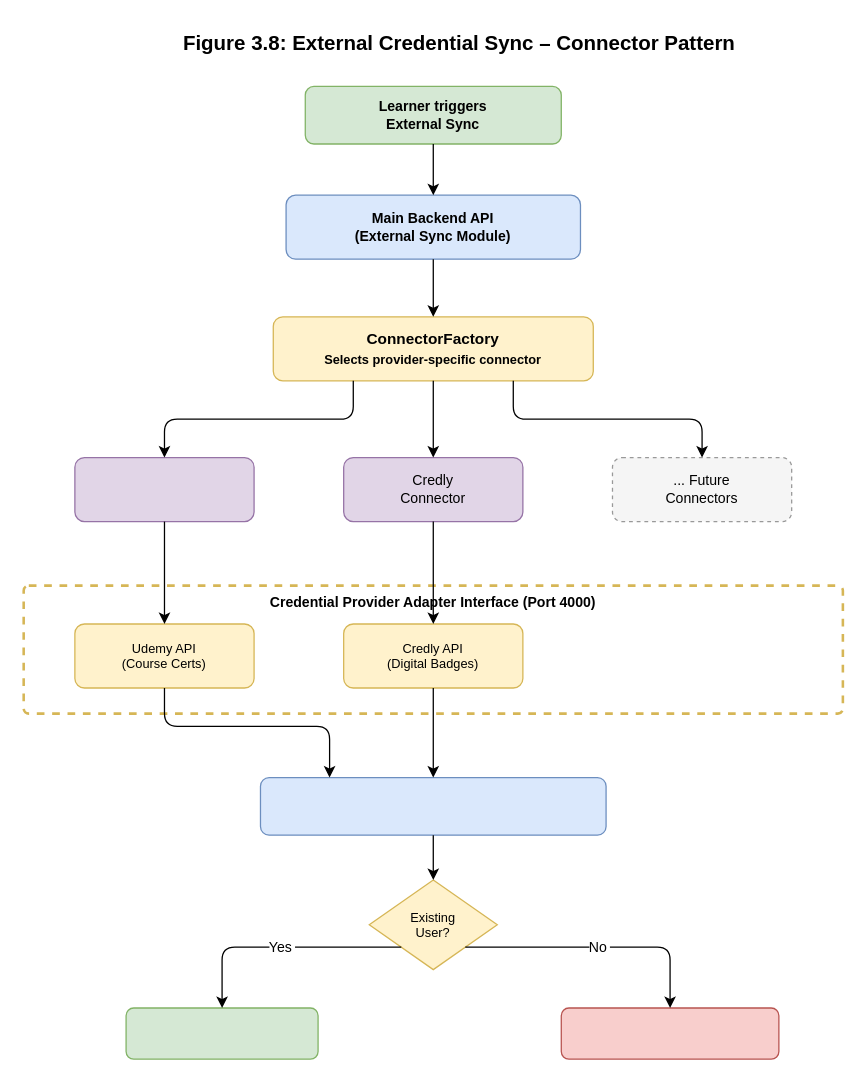
Some shapes in this 865 by 1082 pixel diagram are drawn without their labels. The centre of each missing label's shape, as x and y in pixels:
"Create pending claim + send email invite" belongs at (x=669, y=1033).
"Link credential to learner" belongs at (x=221, y=1033).
"Normalize to standard Credential schema" belongs at (x=432, y=805).
"Udemy Connector" belongs at (x=164, y=489).
